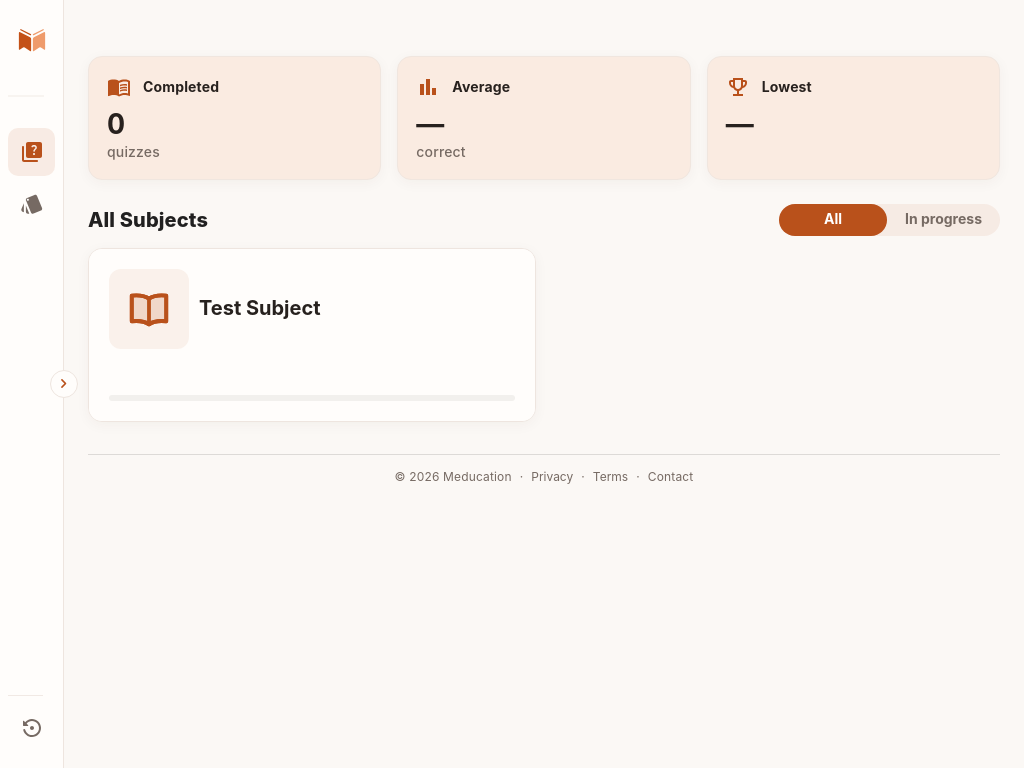
progressive dashboard statistics › cancels a pending question launch on navigation without creating an attempt
Click the button with aria-label "Open Test Subject".
click(312, 334)  # box [89,248,535,420]
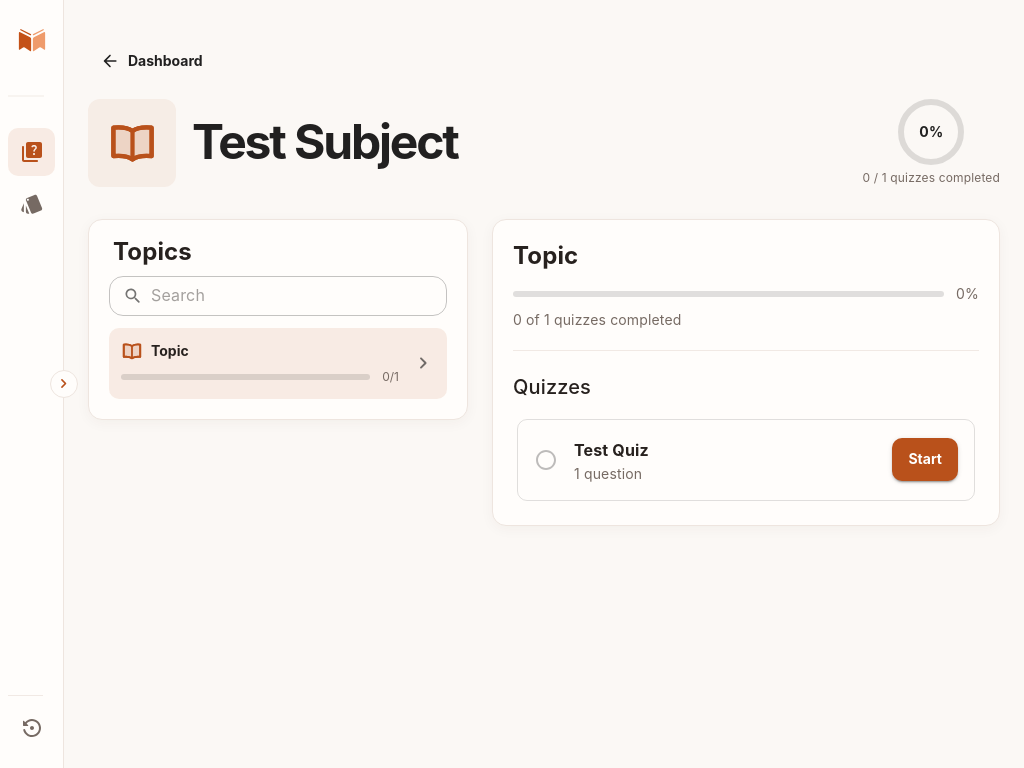
Click the button with aria-label "Start quiz".
click(925, 460)  # box [892,438,958,481]
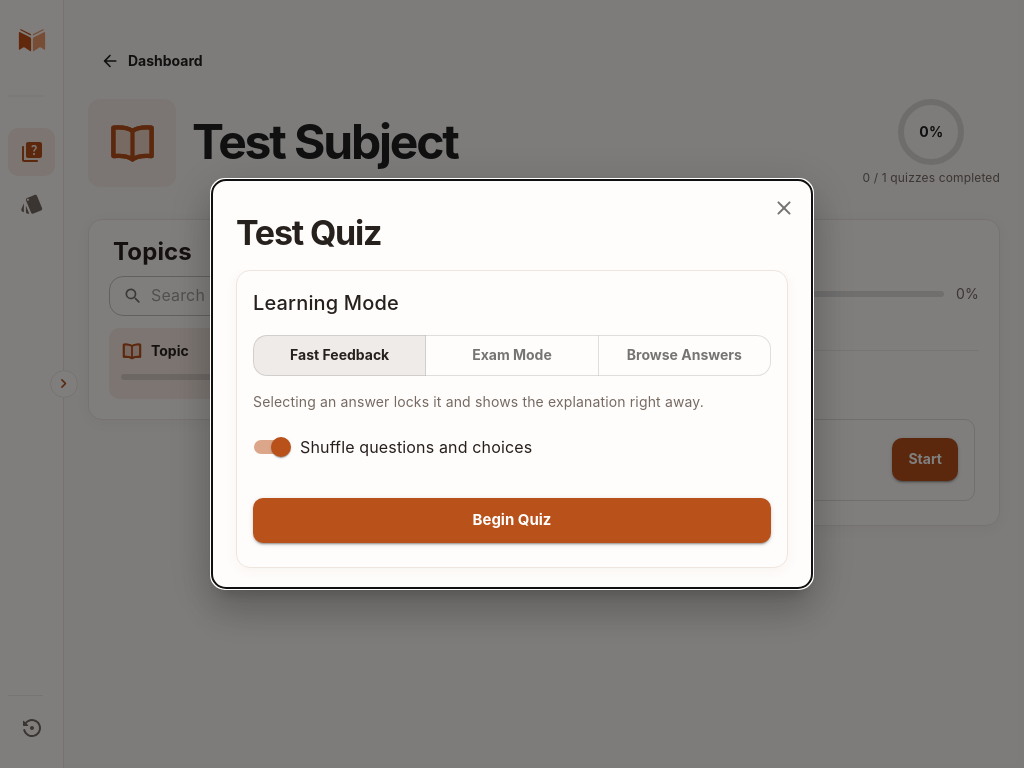
Click the button "Begin Quiz".
click(512, 520)  # box [253,498,771,543]
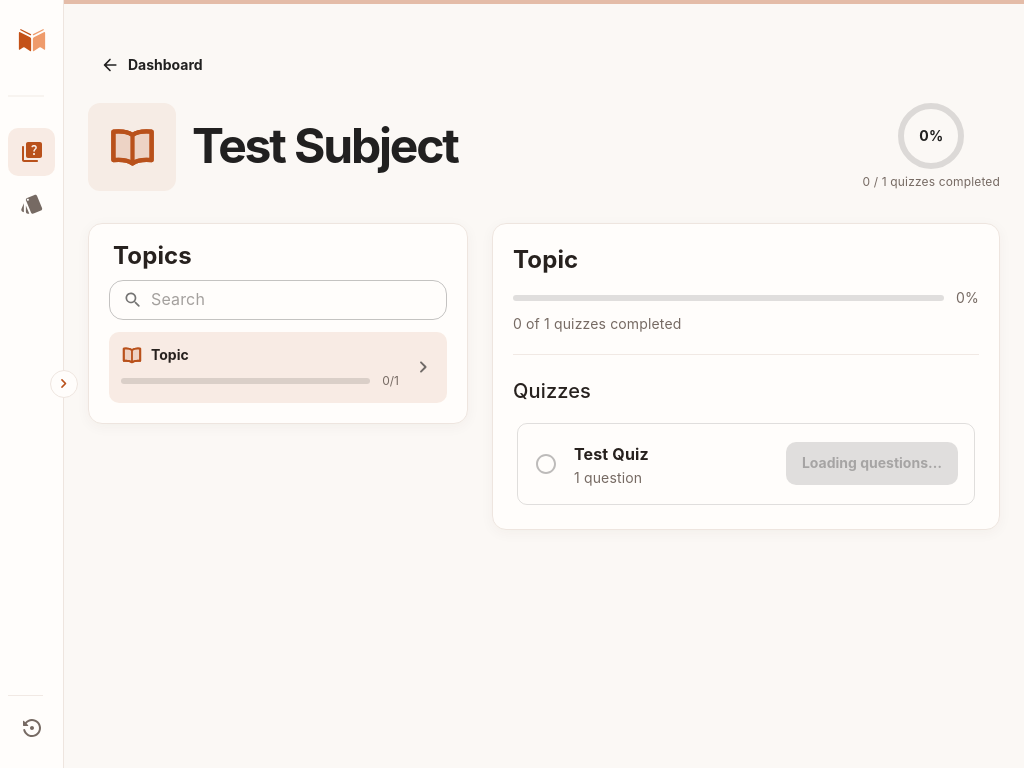
Click the button "Dashboard".
click(153, 65)  # box [88,44,219,86]
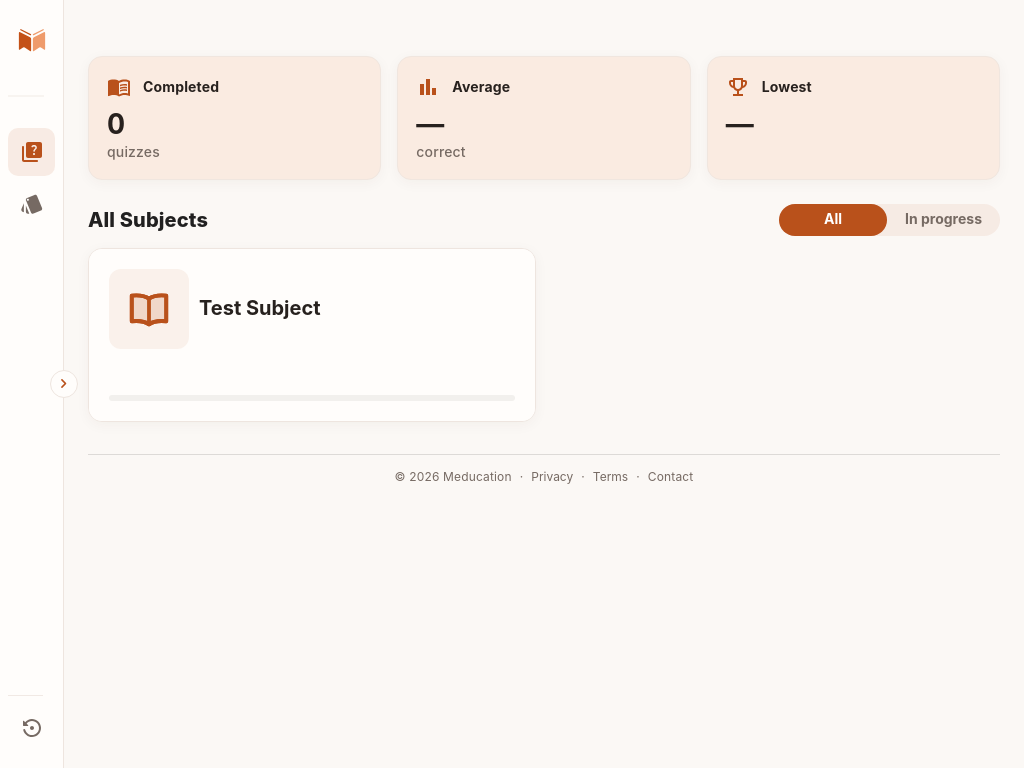
Check: the heading "All Subjects" is shown, box [88,204,208,236]
Check: the heading "Test Quiz" is gone
